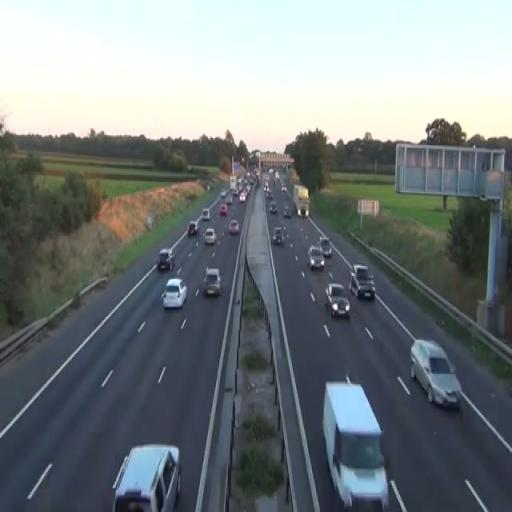Car: (112, 443, 182, 511), (410, 340, 462, 410), (324, 283, 350, 319), (162, 277, 187, 310), (203, 266, 223, 296), (307, 245, 325, 271), (158, 248, 175, 272), (319, 238, 333, 258), (272, 226, 284, 246), (204, 228, 216, 244), (229, 218, 239, 236)
Truck: (321, 378, 390, 509), (292, 186, 310, 218)
